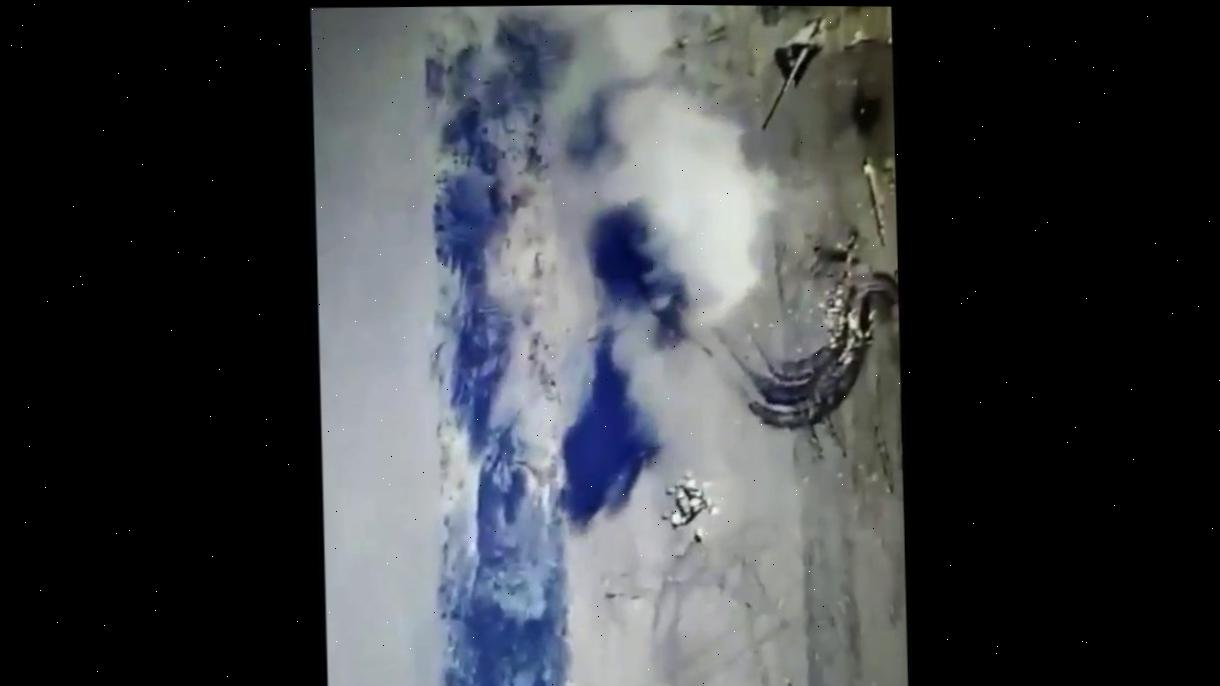sau: (757, 16, 827, 132)
